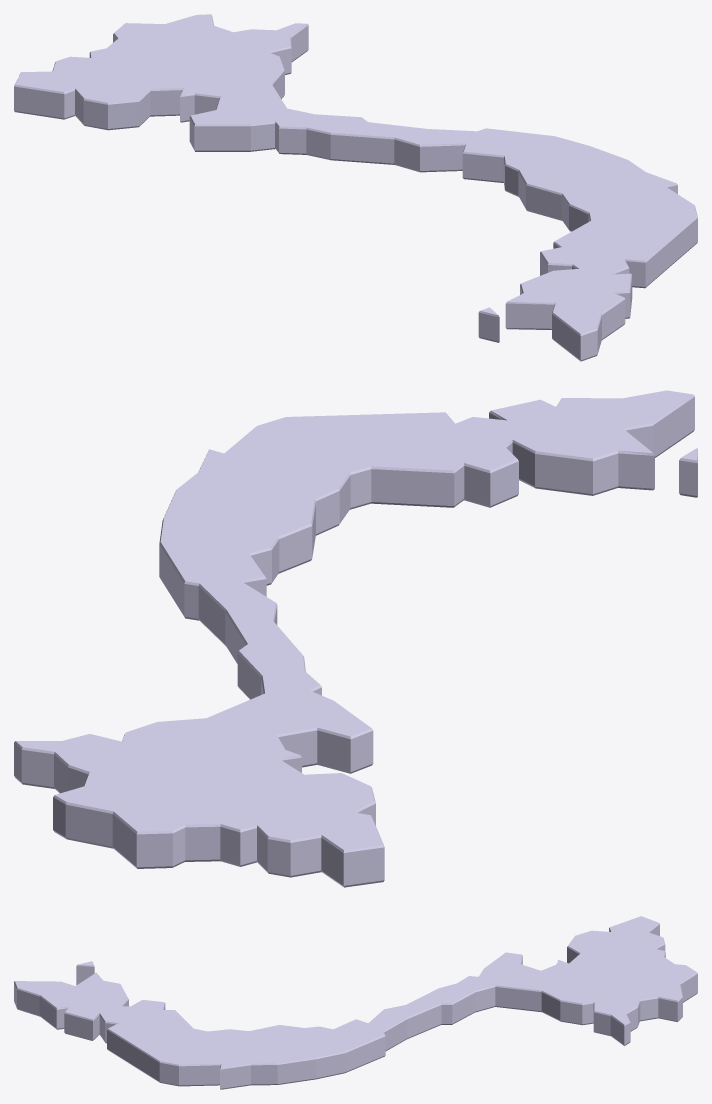
Rendered from VNM.glb.
3 views of the same model, one above another, from view 1: azimuth 30°, elevation 25°; view 2: azimuth 150°, elevation 25°; view 3: azimuth 270°, elevation 25° (orthographic). The views are drawn at different scales.
Bounding box in the file's own units: 1.03 × 0.068 × 1.94.
